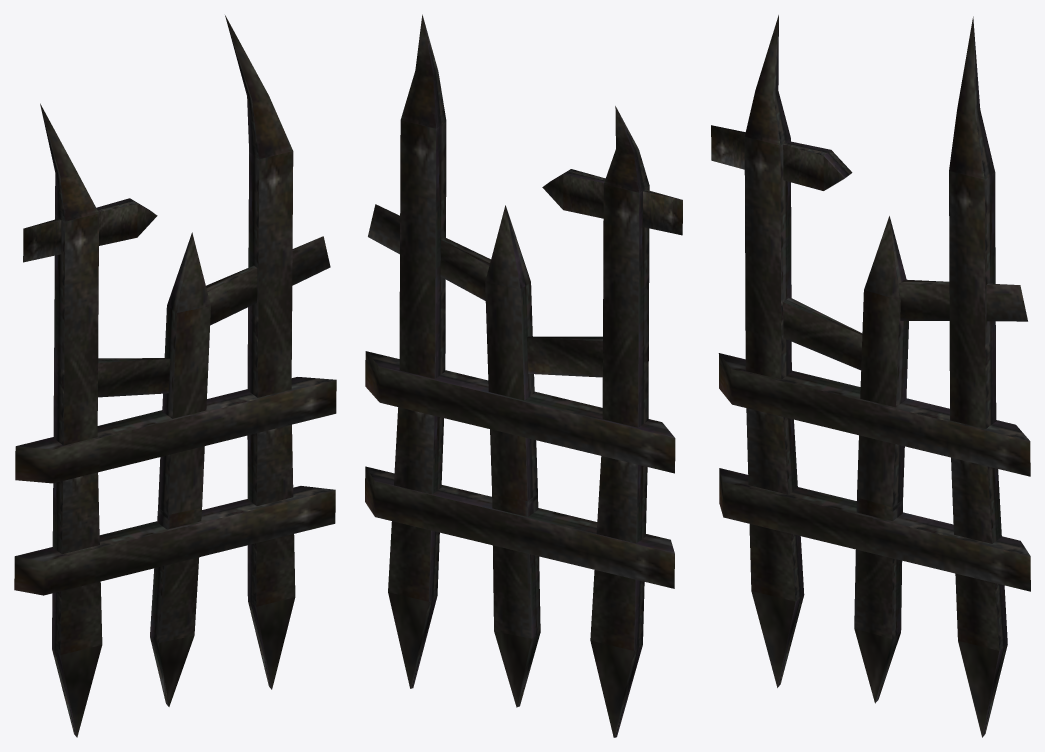
Rendered from S_Build_Muxue042.FBX.
The picture shows the model from 3 angles, left to right: view 1: azimuth 30°, elevation 25°; view 2: azimuth 150°, elevation 25°; view 3: azimuth 330°, elevation 25°; orthographic projection. The views are drawn at different scales.
Visible parts, largest first — view 1: S_Build_Muxue042; view 2: S_Build_Muxue042; view 3: S_Build_Muxue042.
Boxes of the visible parts, x1,y1,x2,y2 form: S_Build_Muxue042: (14, 15, 336, 737); S_Build_Muxue042: (365, 14, 682, 737); S_Build_Muxue042: (711, 15, 1030, 737).
Bounding box in the file's own units: 241 × 39.81 × 497.
